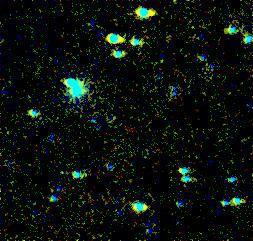star: (60, 73, 90, 103)
